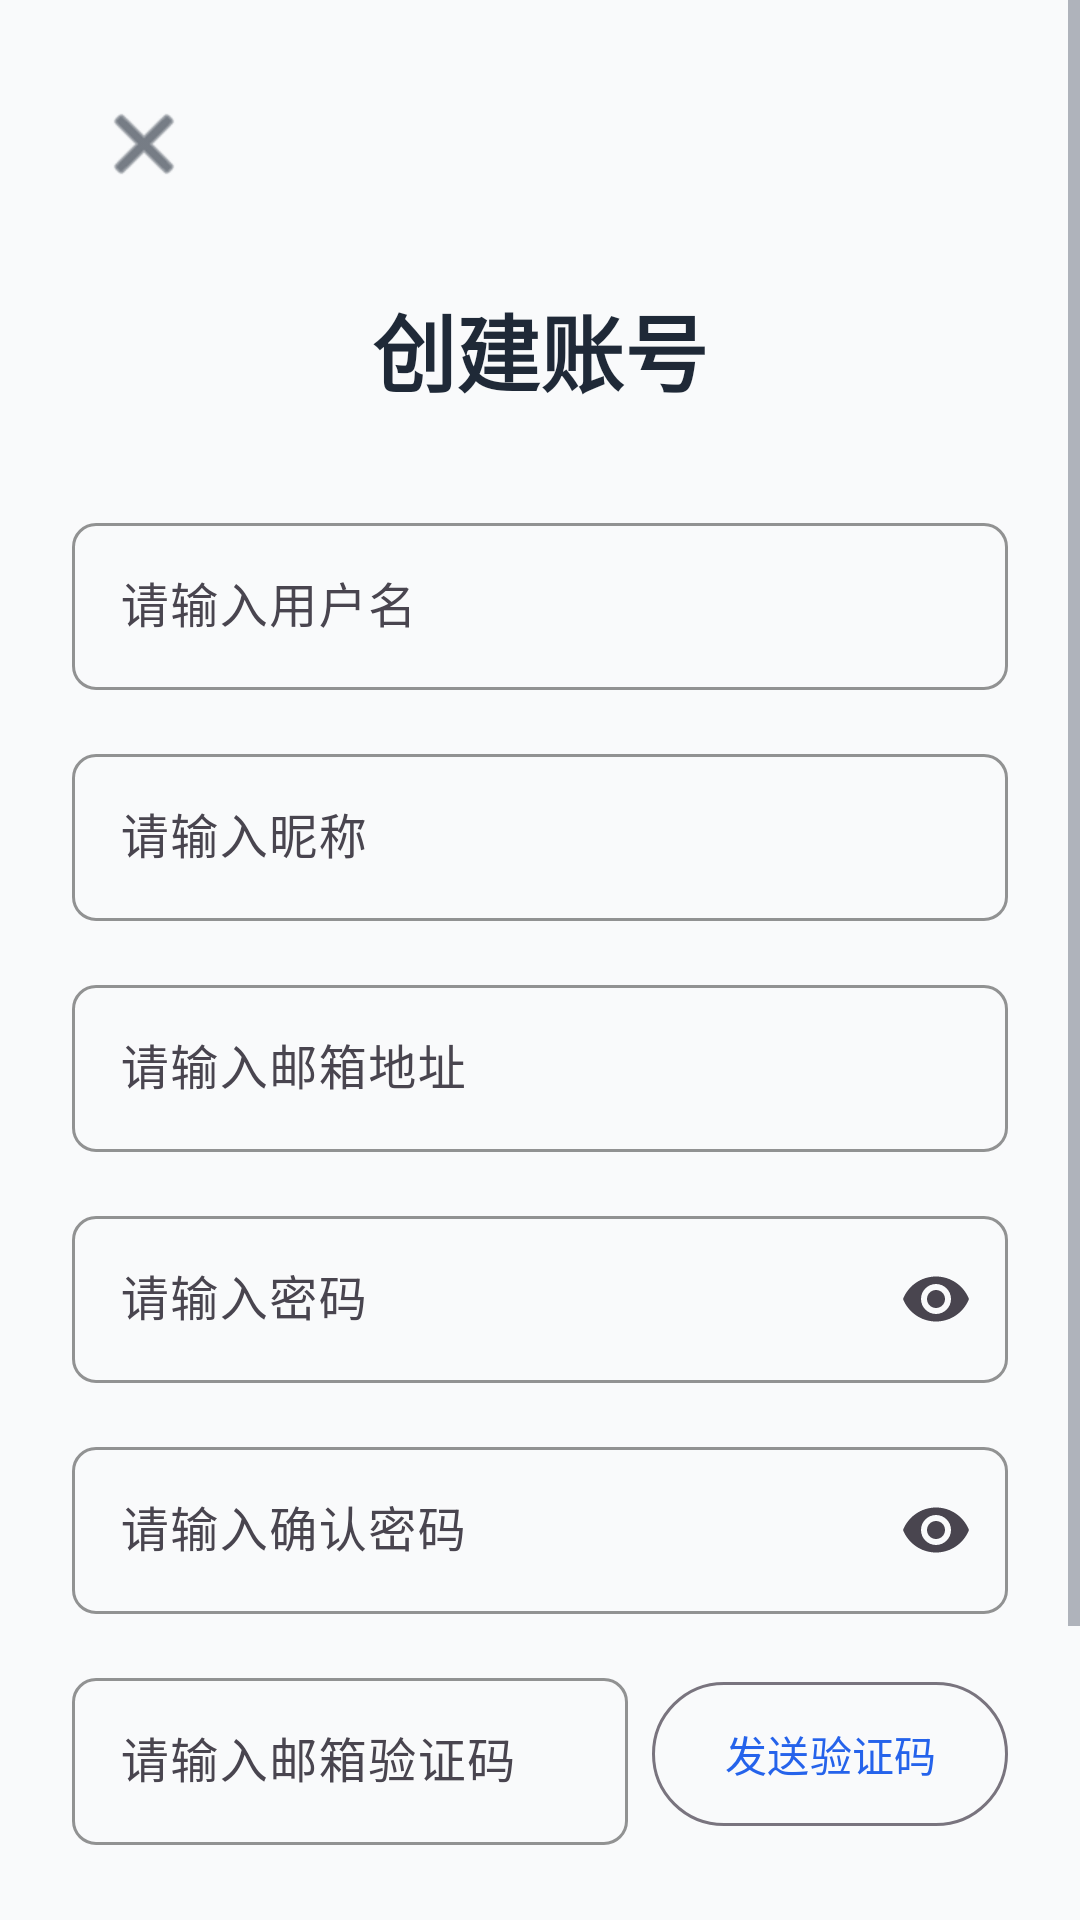

Named icons in this screenshot (1080×1920) and their bounding boxes, [left=x1, top=y1, right=x2, bottom=y2]:
close clear cancel: [left=114, top=114, right=174, bottom=174]
